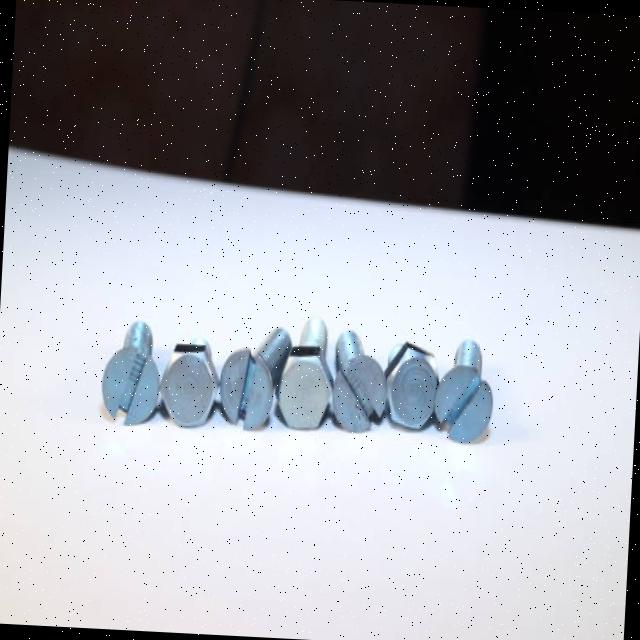Slotted: (432, 355, 499, 451), (93, 342, 163, 429), (213, 340, 273, 440), (327, 349, 384, 438)
